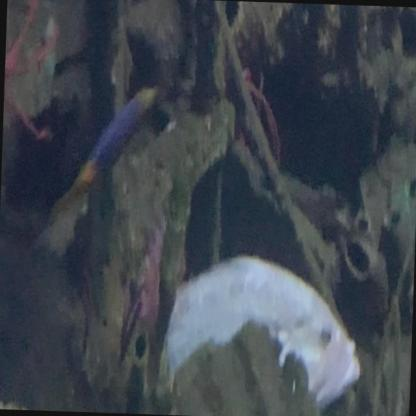fish: (160, 249, 364, 413), (46, 78, 159, 230)
